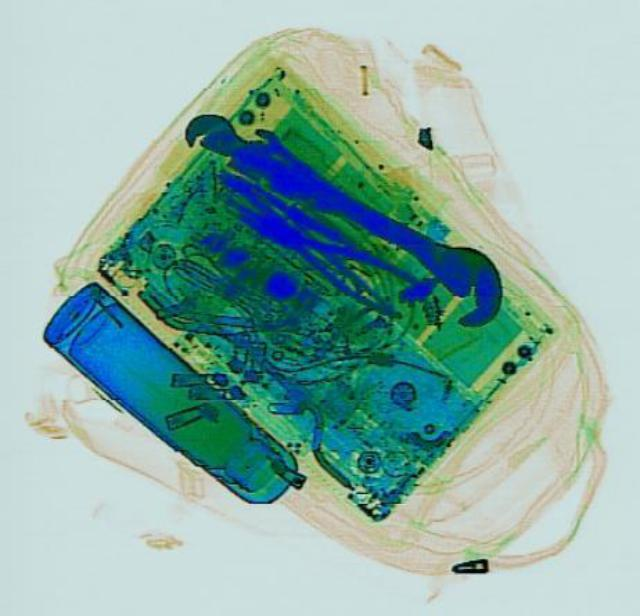Pliers: (222, 184, 426, 320), (208, 161, 392, 294)
Wrench: (223, 120, 522, 334), (171, 99, 331, 216)
